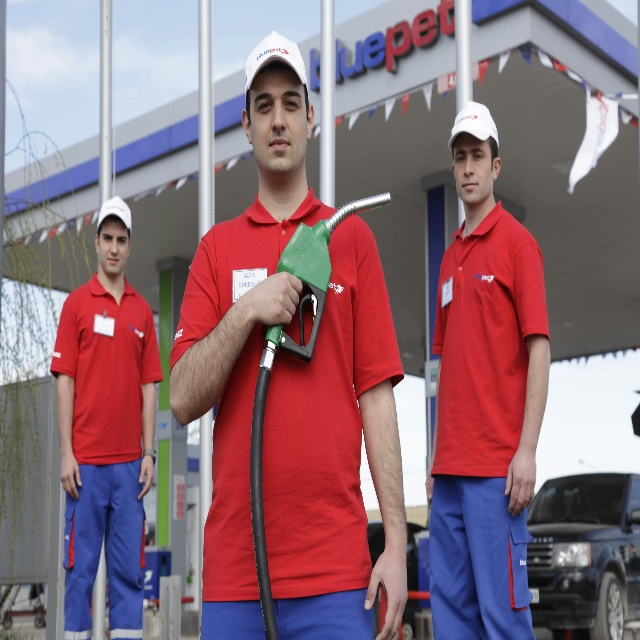Sin_guantes: (363, 544, 409, 640), (250, 270, 302, 329), (504, 448, 538, 518), (58, 453, 83, 501), (136, 452, 156, 503), (424, 462, 437, 511)
